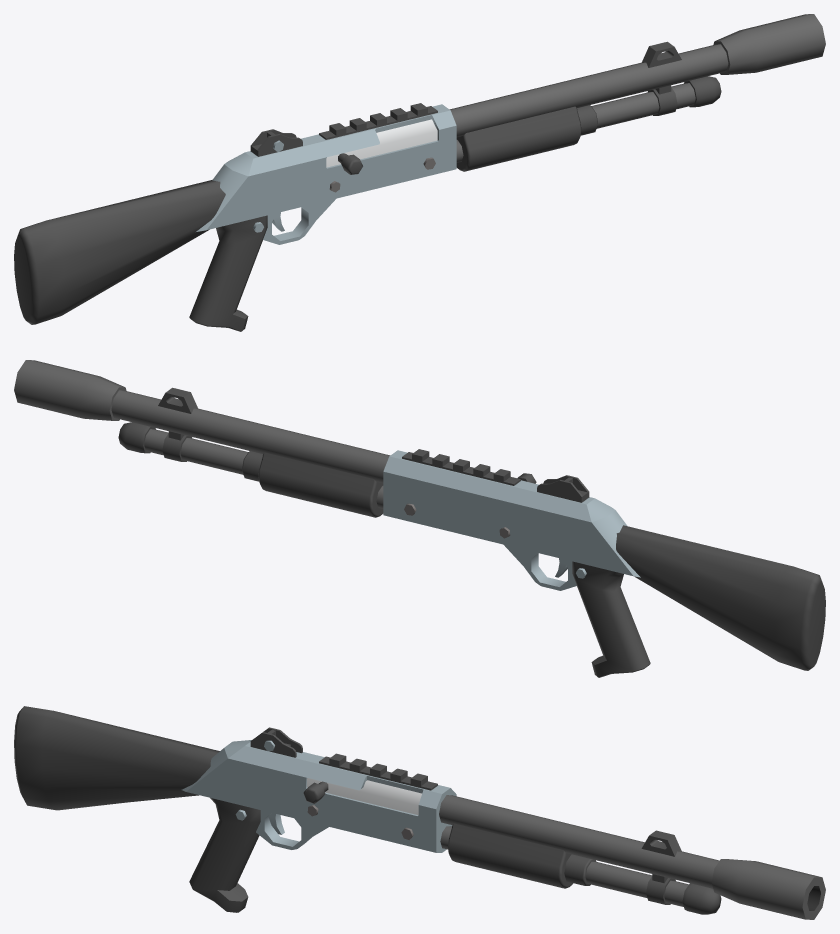
File: shotgun.glb
The picture shows the model from 3 angles, top to bottom: view 1: azimuth 30°, elevation 25°; view 2: azimuth 150°, elevation 25°; view 3: azimuth 330°, elevation 25°; orthographic projection.
Visible parts, largest first — view 1: shotgun_001, shotgun_handguard_001; view 2: shotgun_001, shotgun_handguard_001; view 3: shotgun_001, shotgun_handguard_001.
Part boxes in pixels (x1,y1,x2,y2): shotgun_001: (14,14,825,331); shotgun_handguard_001: (456,105,597,171); shotgun_001: (14,360,825,677); shotgun_handguard_001: (242,451,383,517); shotgun_001: (14,706,825,919); shotgun_handguard_001: (448,823,596,888).
Size of the model in its own units: 1.73 by 0.3879 by 0.1316.
1 material, 1 textured.
